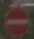No entry: (5, 5, 29, 34)
